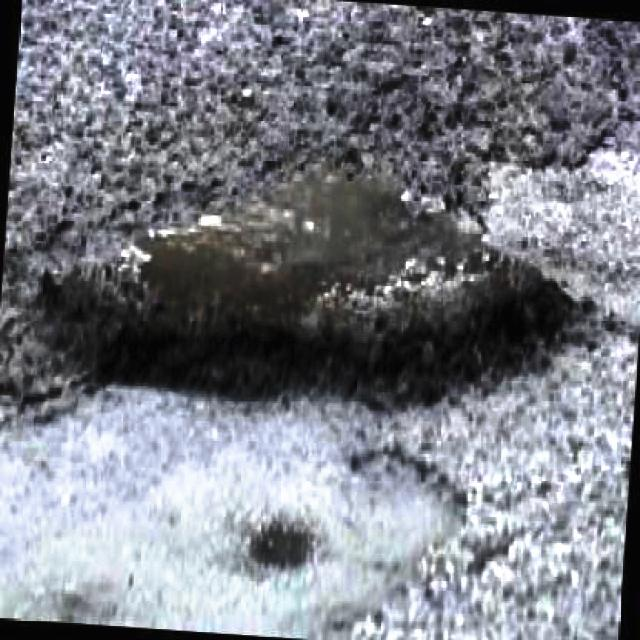pothole: (17, 149, 603, 409)
